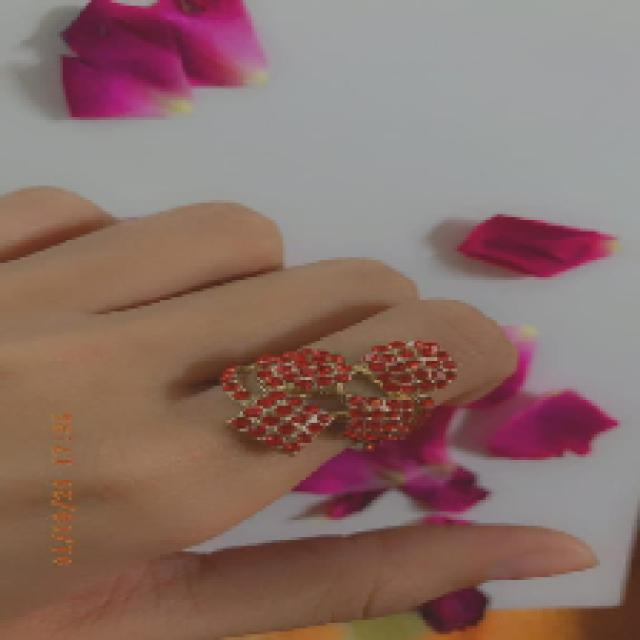Nail: (487, 549, 595, 581)
